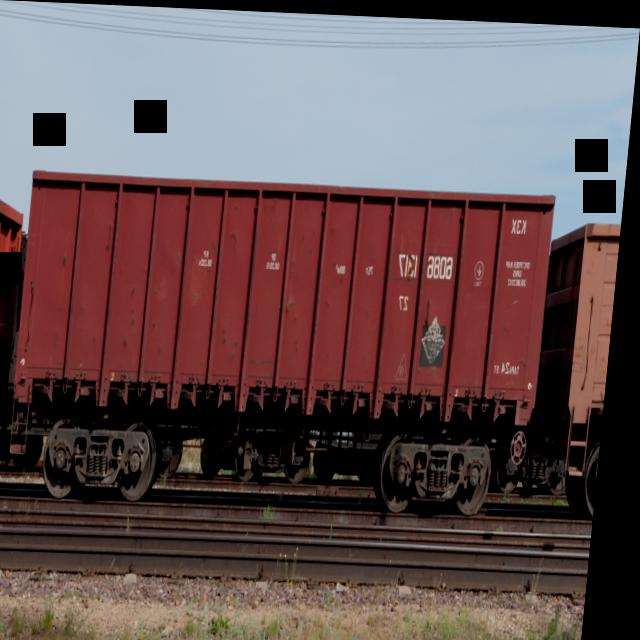gondola: (6, 155, 564, 518), (538, 190, 627, 510), (0, 172, 35, 502)
